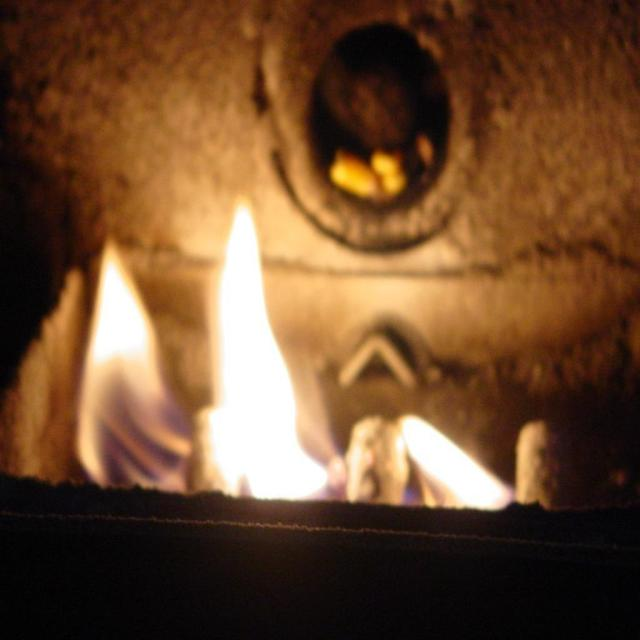fire: (70, 205, 548, 509)
